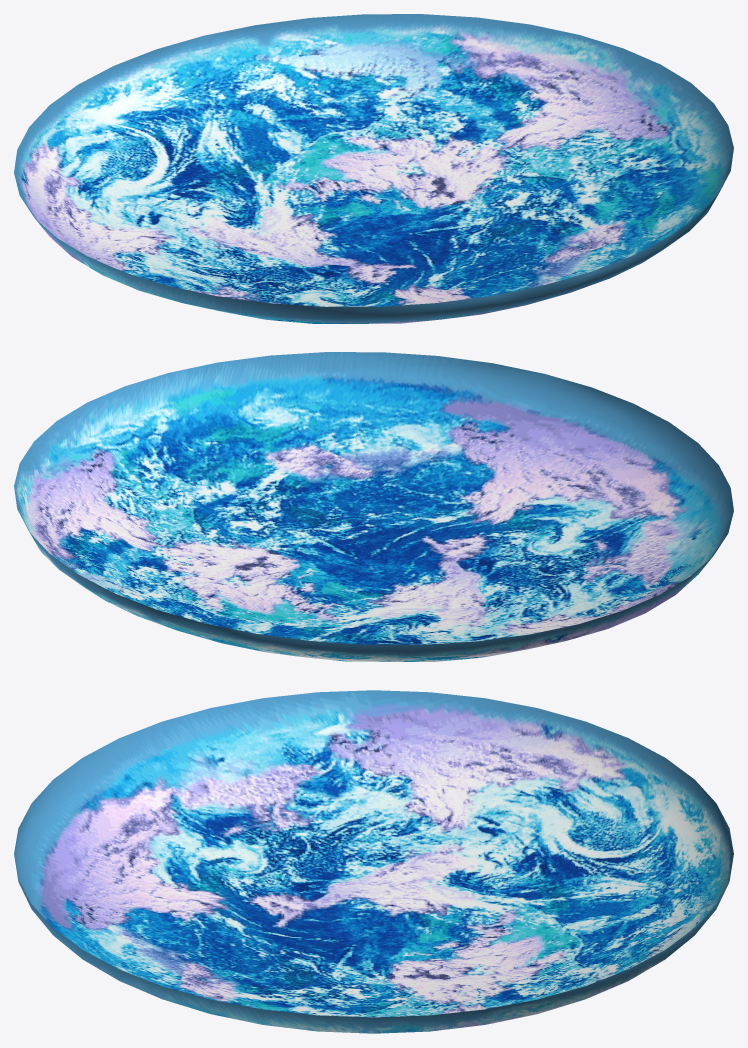
Rendered from Earth.obj.
The picture shows the model from 3 angles, top to bottom: view 1: azimuth 30°, elevation 25°; view 2: azimuth 150°, elevation 25°; view 3: azimuth 270°, elevation 25°; orthographic projection. The views are drawn at different scales.
Bounding box in the file's own units: 5700 × 640 × 5301.
1 material, 1 textured.
